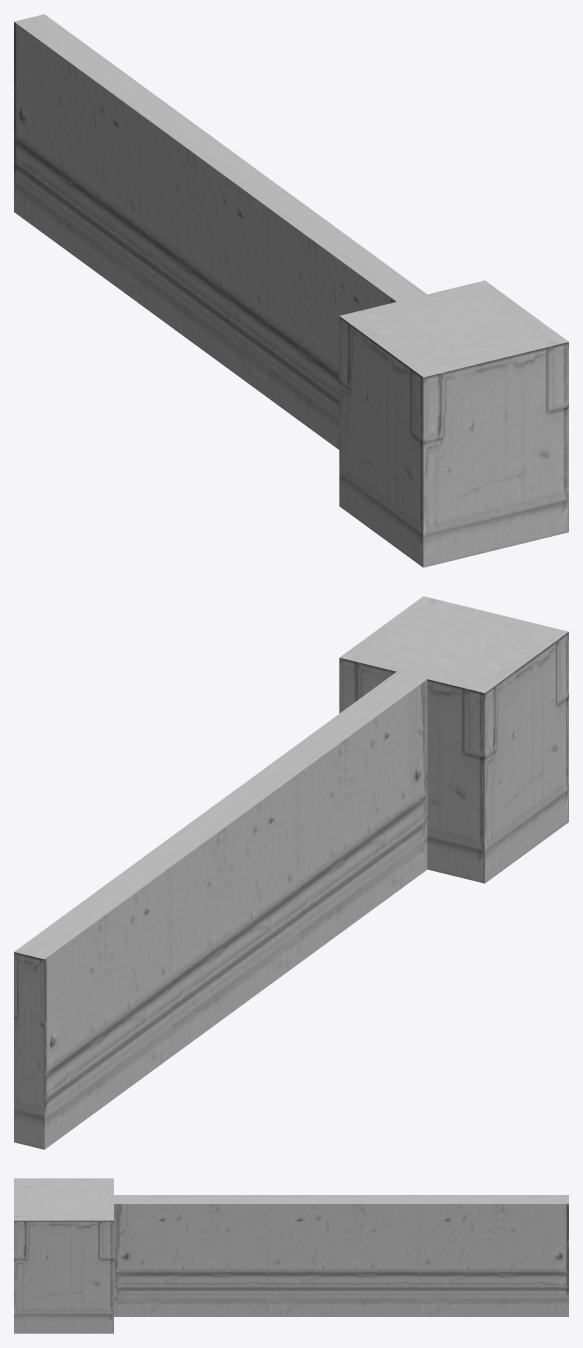
File: Pasamanos.fbx
The picture shows the model from 3 angles, top to bottom: view 1: azimuth 30°, elevation 25°; view 2: azimuth 150°, elevation 25°; view 3: azimuth 270°, elevation 25°; orthographic projection. The views are drawn at different scales.
Visible parts, largest first — view 1: Cube.003; view 2: Cube.003; view 3: Cube.003.
Part boxes in pixels (x1=…): Cube.003: x1=14, y1=14, x2=568, y2=567; Cube.003: x1=14, y1=596, x2=568, y2=1149; Cube.003: x1=14, y1=1178, x2=568, y2=1333.
Size of the model in its own units: 0.72 by 0.9 by 4.
